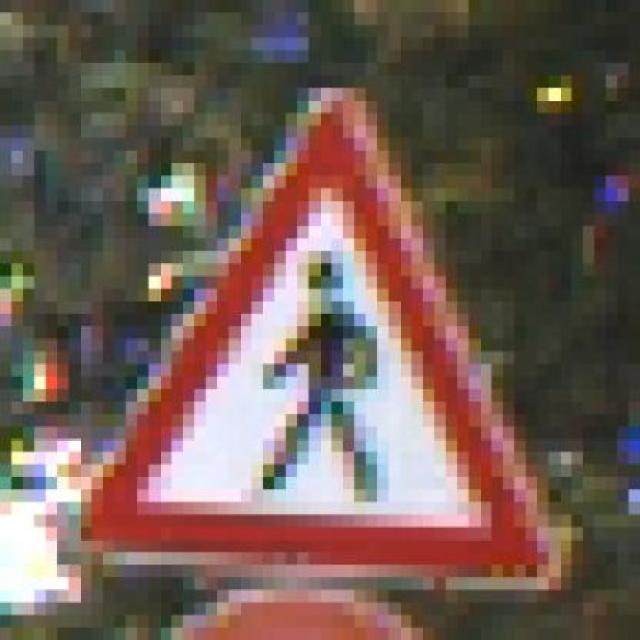Pedestrian Crossing: (57, 75, 594, 590)
